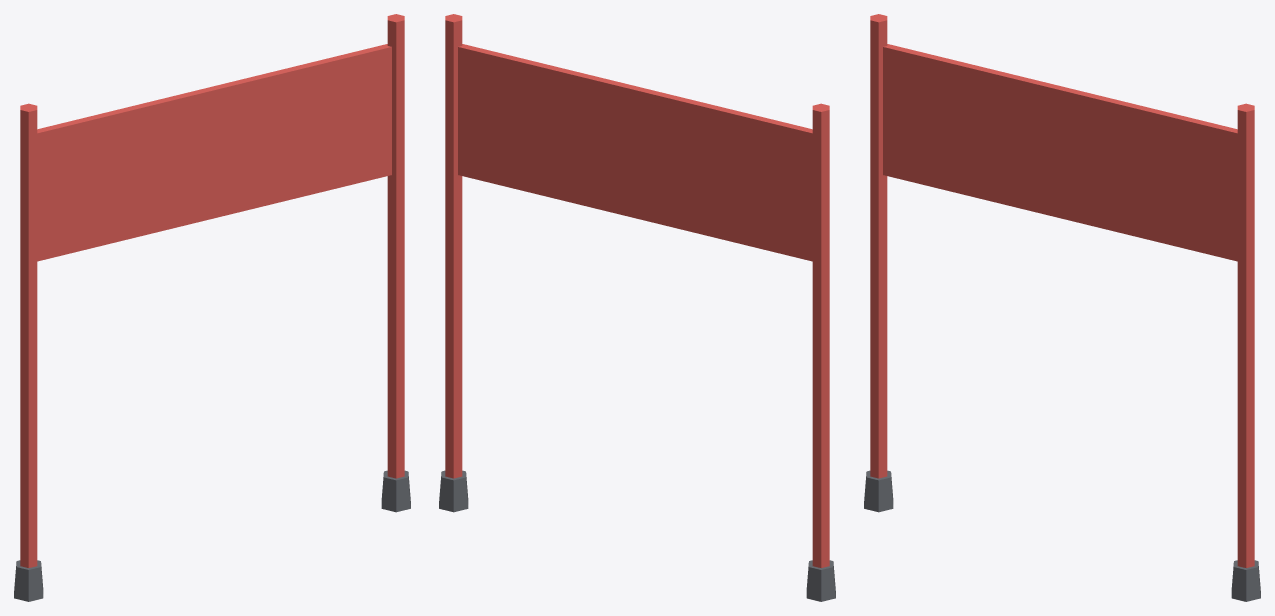
File: gatered.glb
3 views of the same model, side by side, from view 1: azimuth 30°, elevation 25°; view 2: azimuth 150°, elevation 25°; view 3: azimuth 330°, elevation 25° (orthographic).
Visible parts, largest first — view 1: race-gate-red; view 2: race-gate-red; view 3: race-gate-red.
Boxes of the visible parts, left/top/right/bottom form: race-gate-red: left=14, top=14, right=410, bottom=601; race-gate-red: left=439, top=14, right=835, bottom=601; race-gate-red: left=864, top=14, right=1260, bottom=601.
Bounding box in the file's own units: 1.62 × 1.9 × 0.1038.
